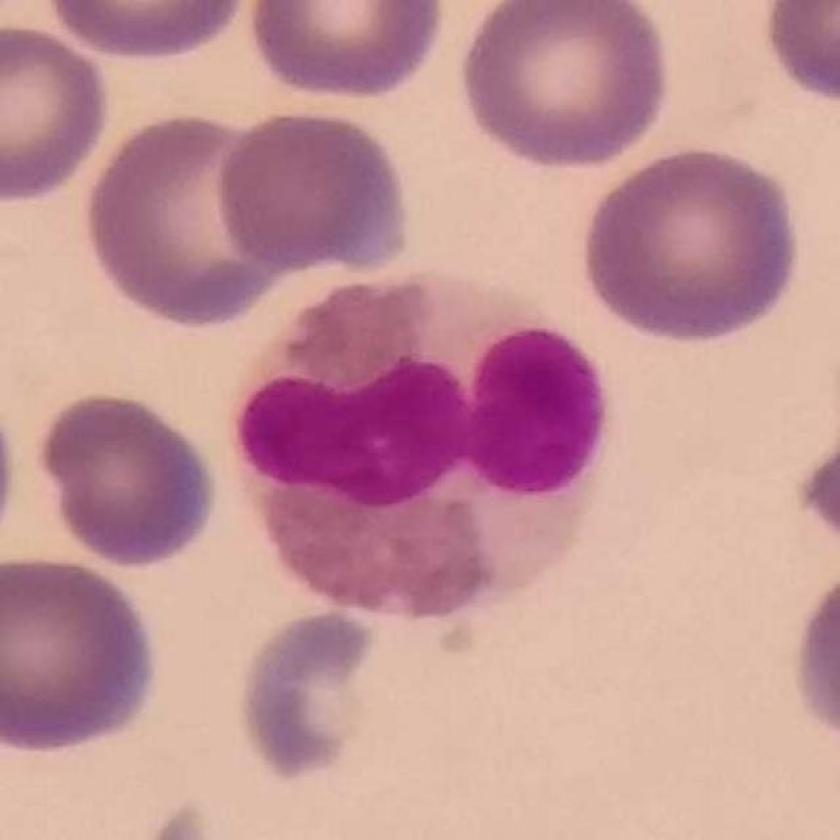eosinophil: (240, 269, 615, 622)
